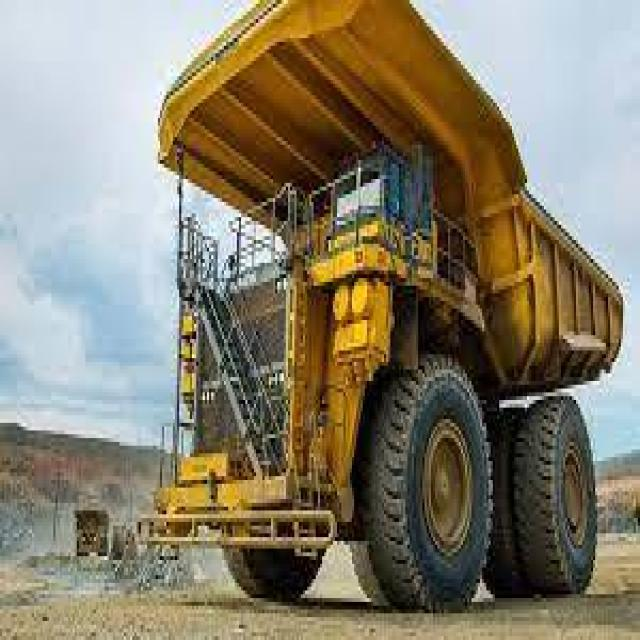dump_truck: (131, 0, 630, 638)
